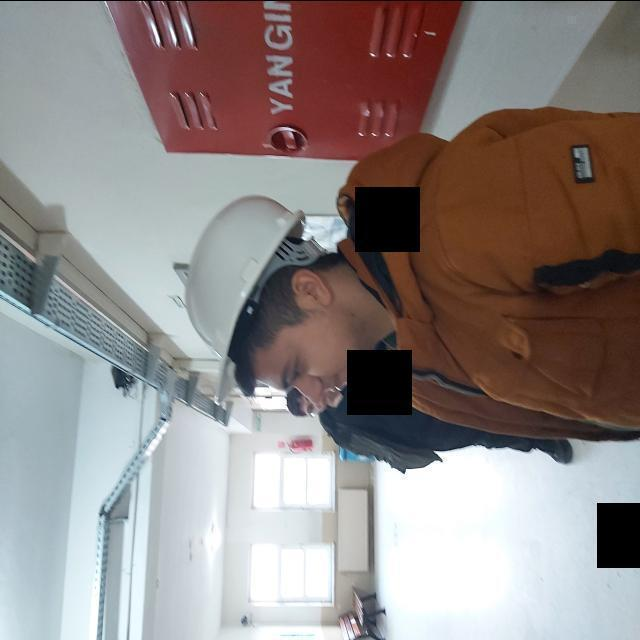white helmet: (174, 184, 294, 384)
